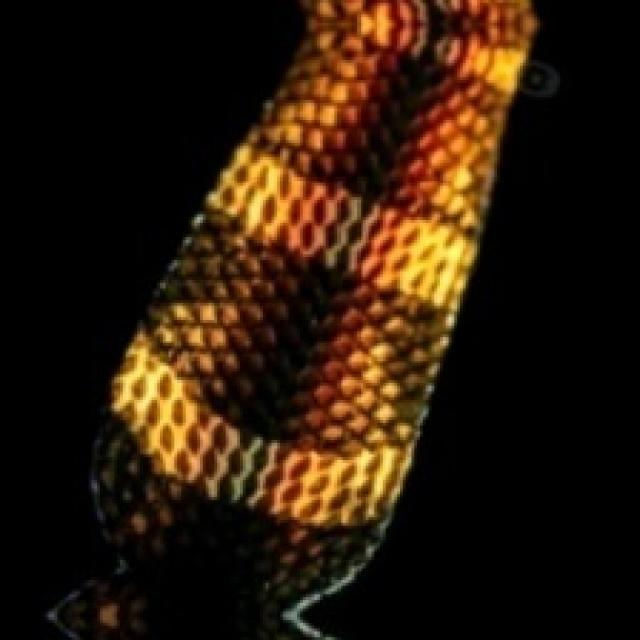king cobra: (51, 0, 531, 637)
